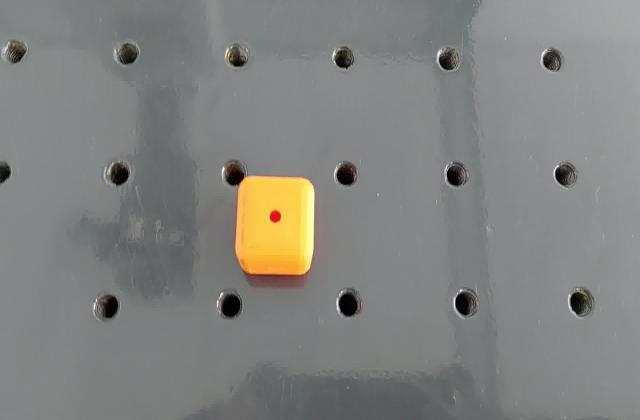cube: (232, 170, 317, 279)
